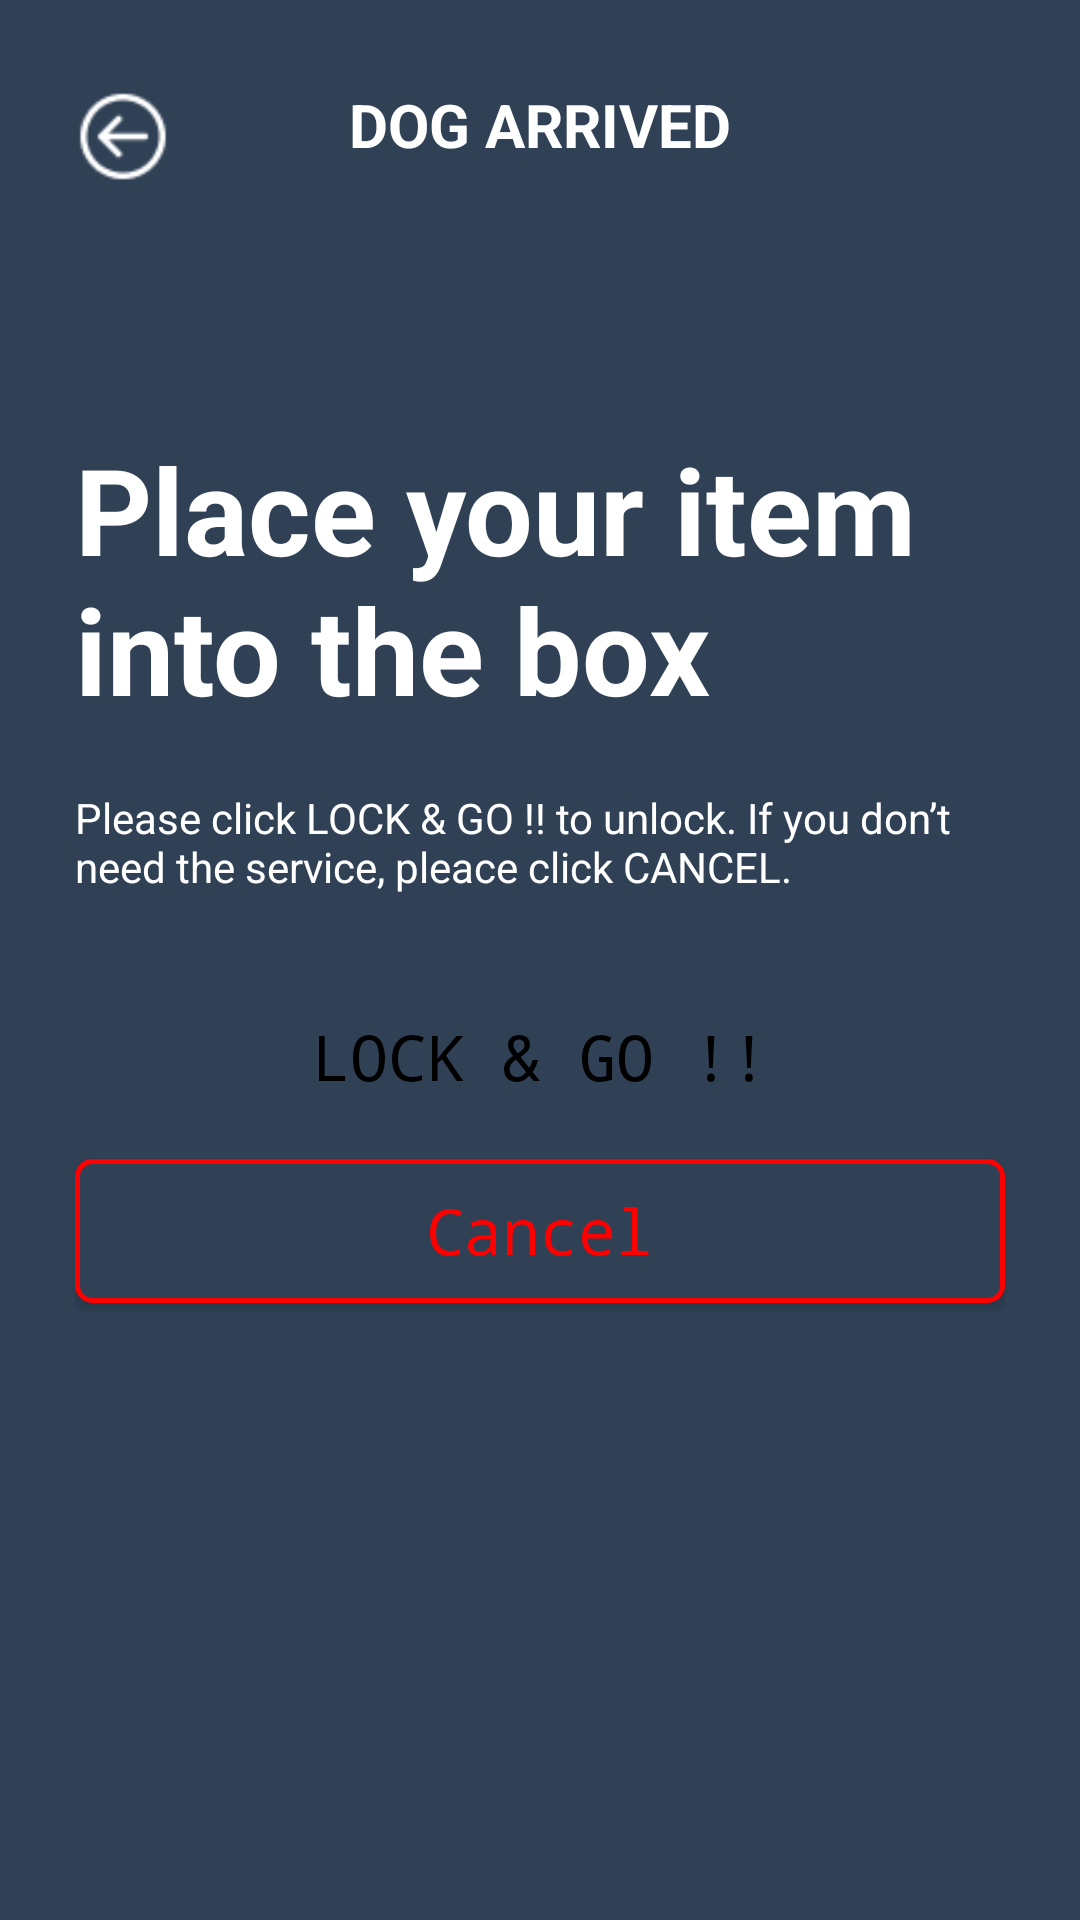

Named icons in this screenshot (1080 × 1920) and their bounding boxes, (x1, y1, x2, y2):
back: (80, 93, 166, 180)
